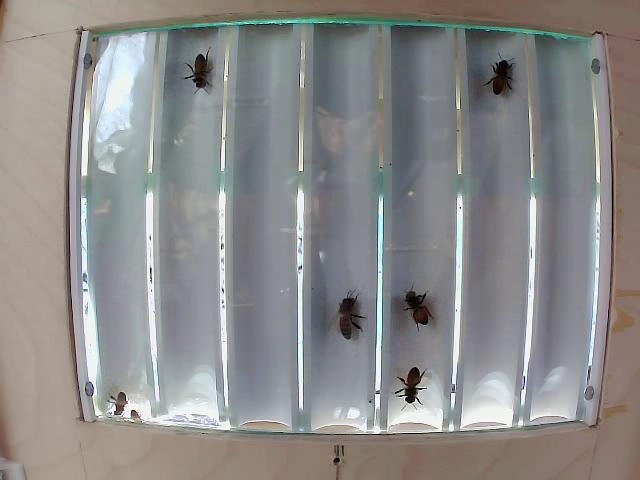bee: (328, 284, 368, 339), (394, 346, 431, 400), (397, 278, 431, 334), (495, 53, 525, 103), (187, 47, 209, 98)
